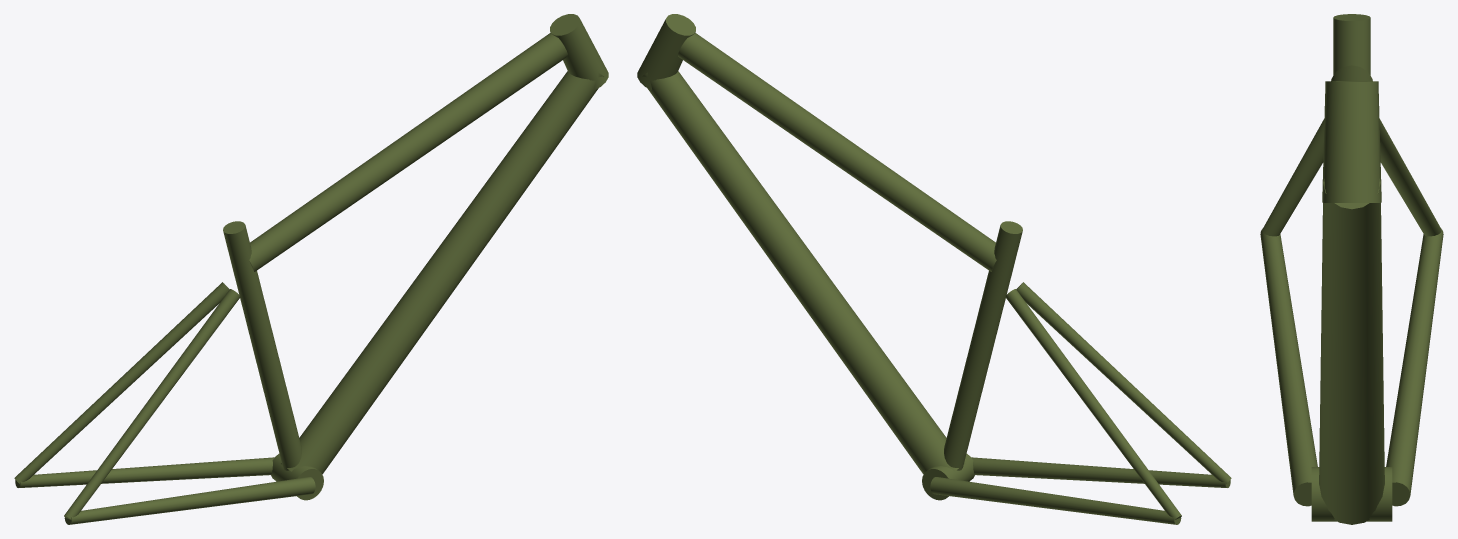
3 views of the same model, side by side, from view 1: azimuth 30°, elevation 25°; view 2: azimuth 150°, elevation 25°; view 3: azimuth 270°, elevation 25° (orthographic). The views are drawn at different scales.
Parts seen in each view (by area): view 1: ht_down_tube, ht_top_tube, ht_seat_tube, ht_cs_r, ht_cs_l, ht_ss_l, ht_ss_r, ht_head_tube, ht_bb; view 2: ht_down_tube, ht_top_tube, ht_seat_tube, ht_cs_l, ht_cs_r, ht_ss_r, ht_ss_l, ht_head_tube, ht_bb; view 3: ht_down_tube, ht_head_tube, ht_cs_l, ht_cs_r, ht_ss_l, ht_ss_r, ht_seat_tube, ht_bb, ht_top_tube.
Part boxes in pixels (x1,y1,x2,y2): ht_down_tube: [281, 71, 603, 474]; ht_top_tube: [249, 33, 567, 271]; ht_seat_tube: [223, 221, 301, 470]; ht_cs_r: [64, 477, 315, 524]; ht_cs_l: [15, 457, 274, 487]; ht_ss_l: [14, 282, 229, 484]; ht_ss_r: [64, 289, 240, 519]; ht_head_tube: [550, 14, 608, 90]; ht_bb: [271, 453, 323, 500]; ht_down_tube: [642, 71, 964, 474]; ht_top_tube: [678, 33, 996, 271]; ht_seat_tube: [944, 221, 1022, 470]; ht_cs_l: [930, 477, 1181, 524]; ht_cs_r: [971, 457, 1230, 487]; ht_ss_r: [1016, 282, 1231, 484]; ht_ss_l: [1005, 289, 1181, 519]; ht_head_tube: [637, 14, 695, 90]; ht_bb: [922, 453, 974, 500]; ht_down_tube: [1319, 179, 1384, 524]; ht_head_tube: [1322, 81, 1381, 202]; ht_cs_l: [1386, 228, 1443, 506]; ht_cs_r: [1260, 228, 1317, 506]; ht_ss_l: [1379, 119, 1441, 236]; ht_ss_r: [1262, 119, 1324, 236]; ht_seat_tube: [1333, 14, 1370, 75]; ht_bb: [1311, 467, 1392, 521]; ht_top_tube: [1331, 65, 1372, 81].
Size of the model in its own units: 0.9612 by 0.66 by 0.1659.
